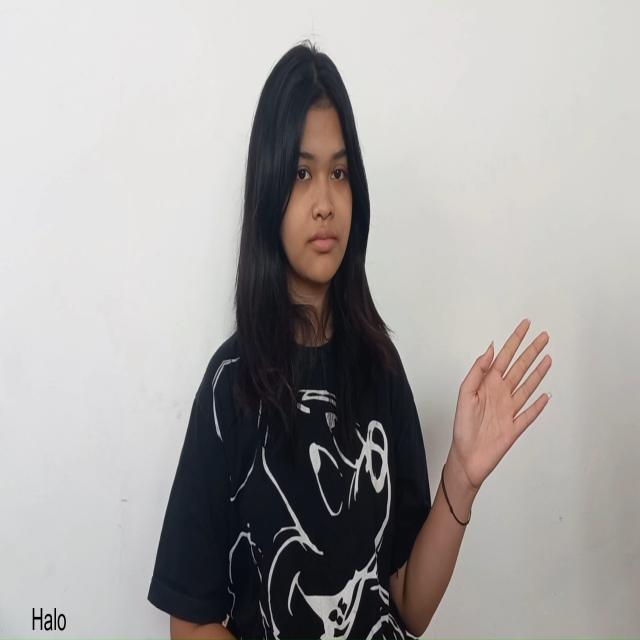Halo -BISINDO-: (449, 317, 553, 496)
